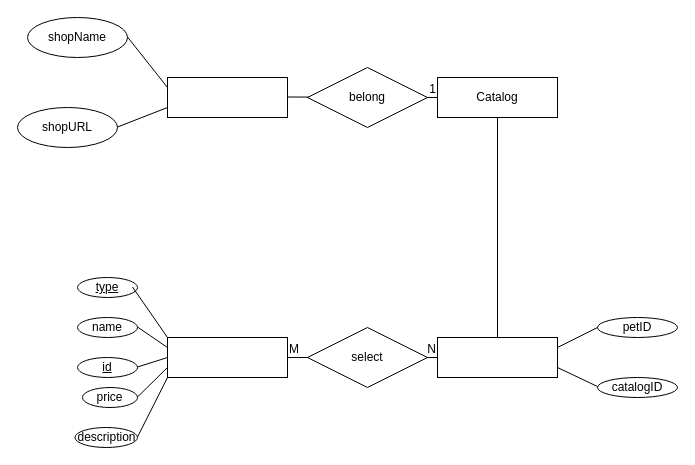
This 695x465 diagram has some shape labels left out. The centre of each missing label's shape, as x and y in pixels:
OnlineShop: the point at 227,97
Pet: the point at 227,357
PetCatalog: the point at 497,357
